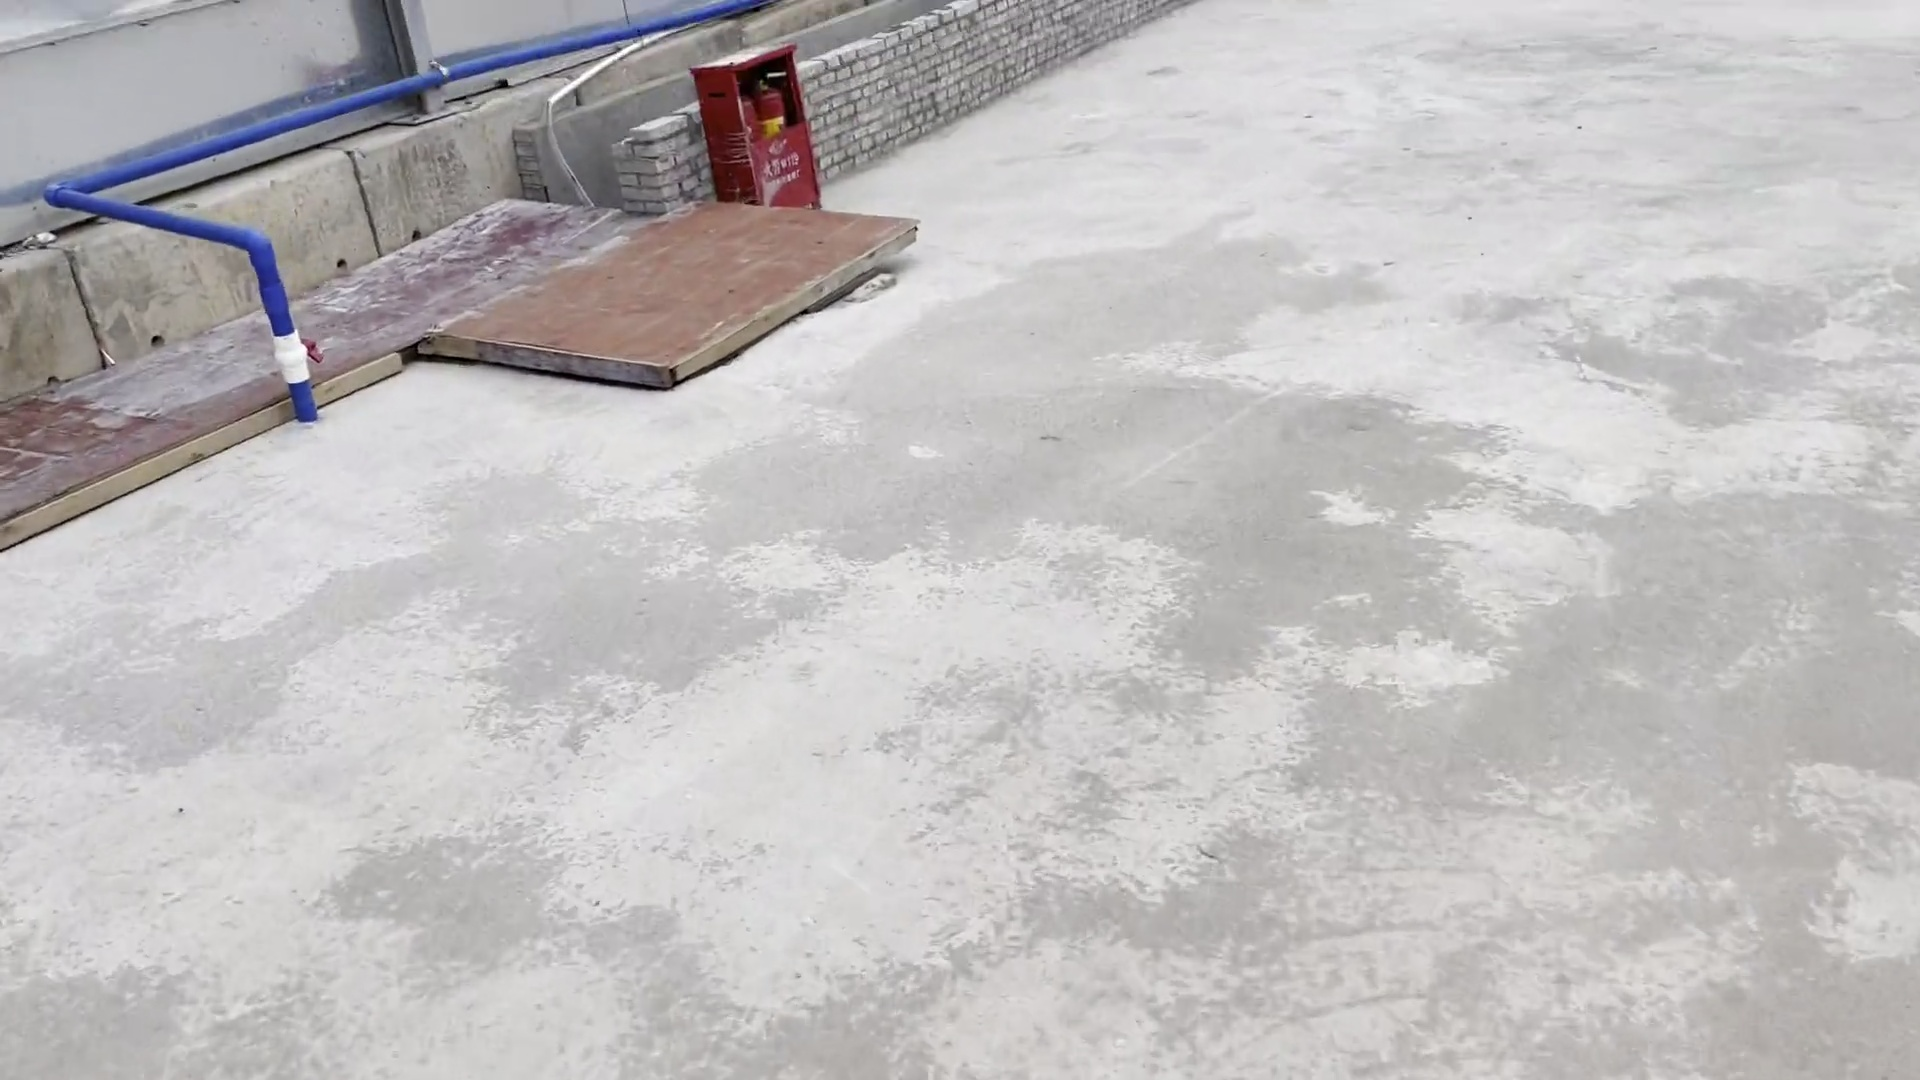board: (1, 195, 938, 562)
brick: (800, 4, 1215, 200), (517, 104, 713, 243)
